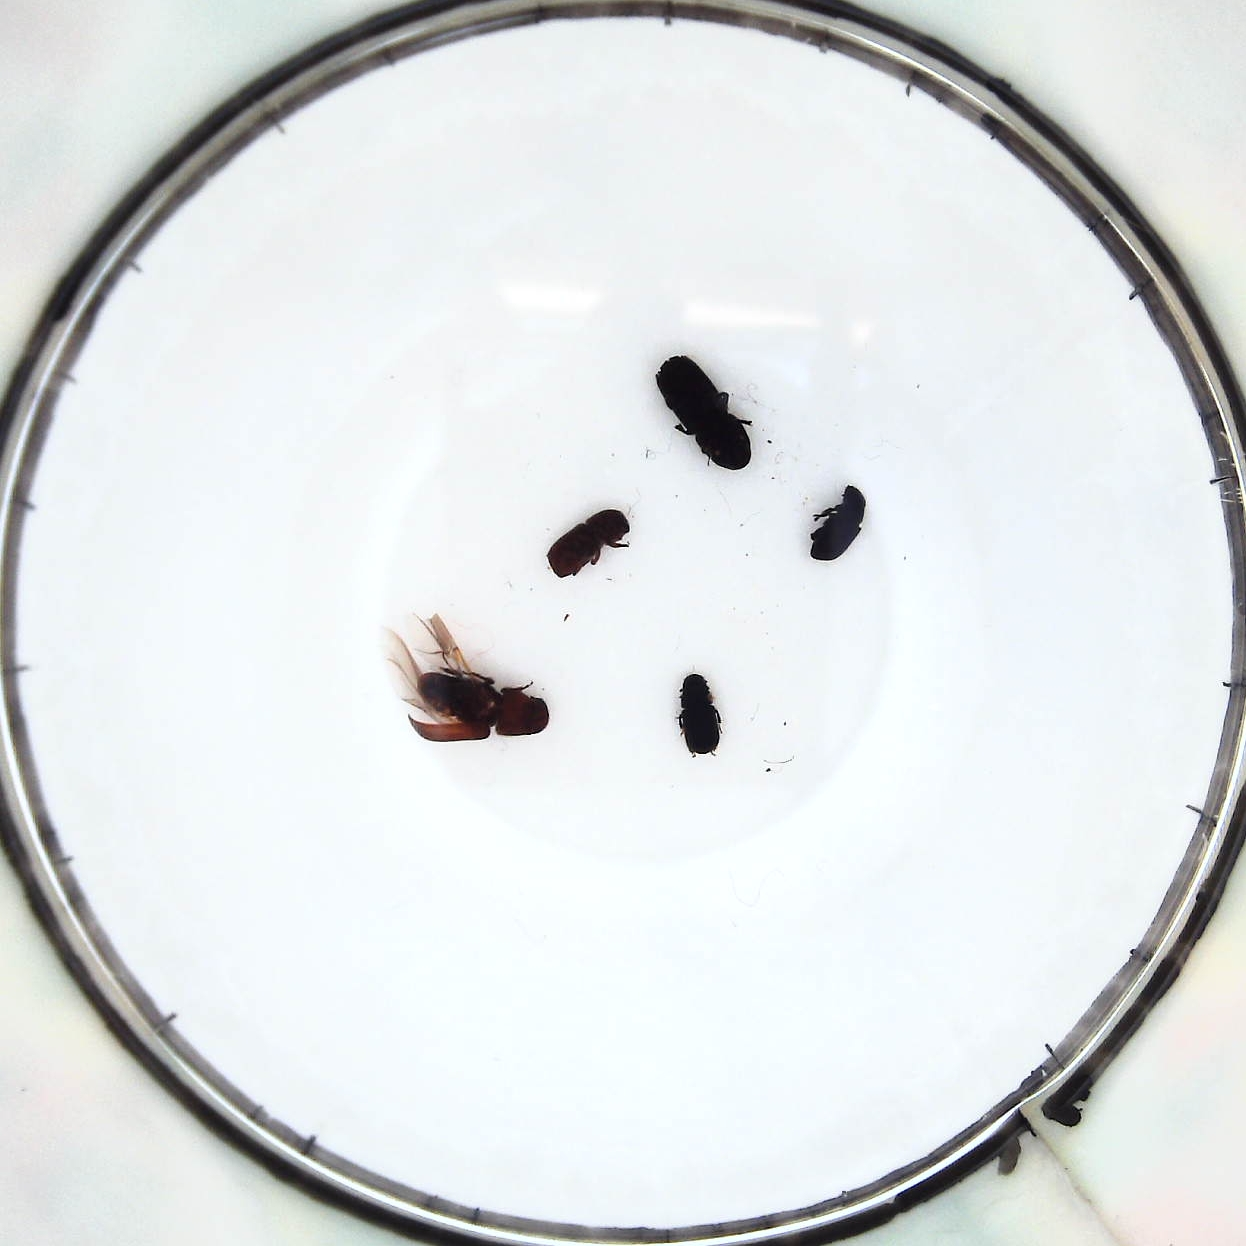Boerner: (653, 356, 756, 474)
Leconte: (395, 628, 547, 747)
Linnaeus: (547, 503, 631, 578)
armandi: (807, 483, 866, 566), (675, 674, 725, 754)
